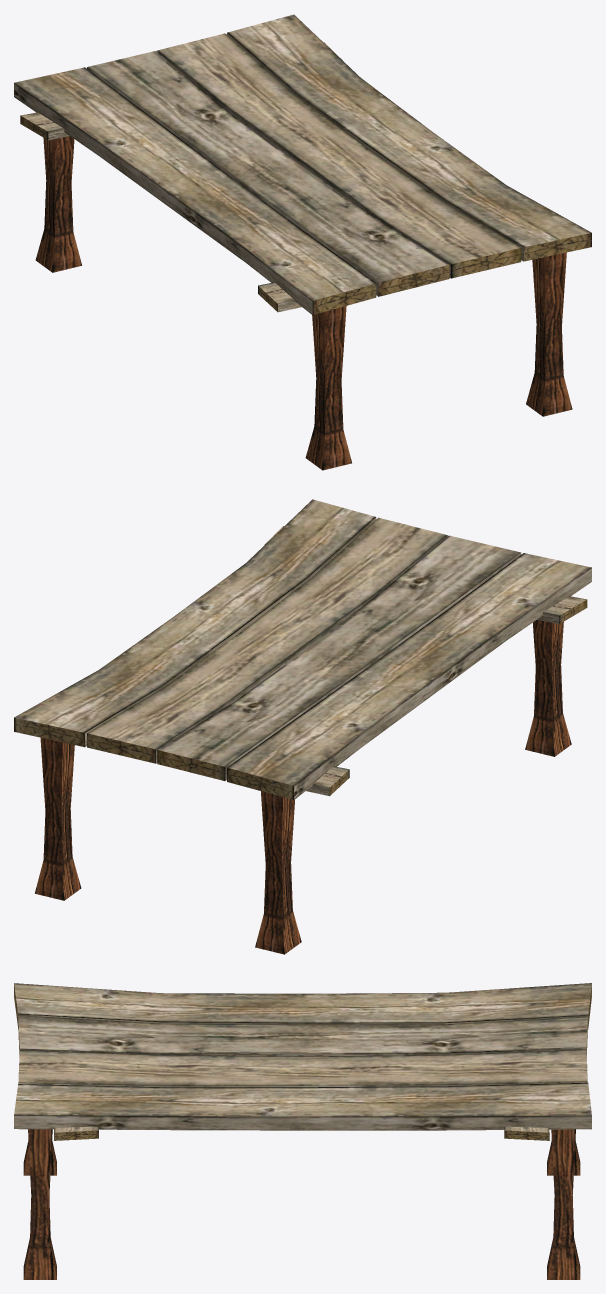
Rendered from LVL_RIV_INST_TABLE.fbx.
3 renders of one model, top to bottom at view 1: azimuth 30°, elevation 25°; view 2: azimuth 150°, elevation 25°; view 3: azimuth 270°, elevation 25°, orthographic. The views are drawn at different scales.
Parts seen in each view (by area): view 1: LVL_RIV_INST_TABLE; view 2: LVL_RIV_INST_TABLE; view 3: LVL_RIV_INST_TABLE.
Boxes of the visible parts, box(x1,y1,x2,y2) form: LVL_RIV_INST_TABLE: box(14, 14, 591, 470); LVL_RIV_INST_TABLE: box(14, 499, 591, 954); LVL_RIV_INST_TABLE: box(14, 983, 591, 1279).
Bounding box in the file's own units: 17937 × 10008 × 30569.
3 materials, 3 textured.
